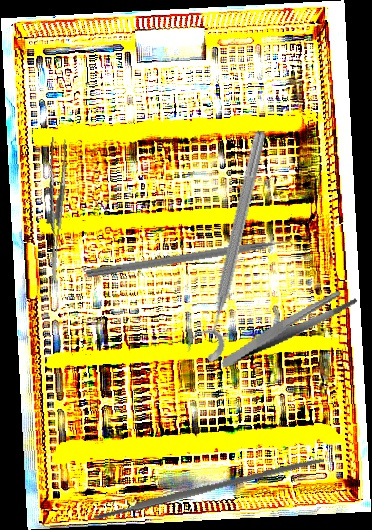Chopper: (84, 234, 308, 290)
Dressing Forceps: (211, 287, 366, 369)
Fixation Ring: (183, 125, 274, 365)
Scalpel Handle: (93, 454, 325, 522)
Tissue Forceps: (27, 136, 81, 281)
